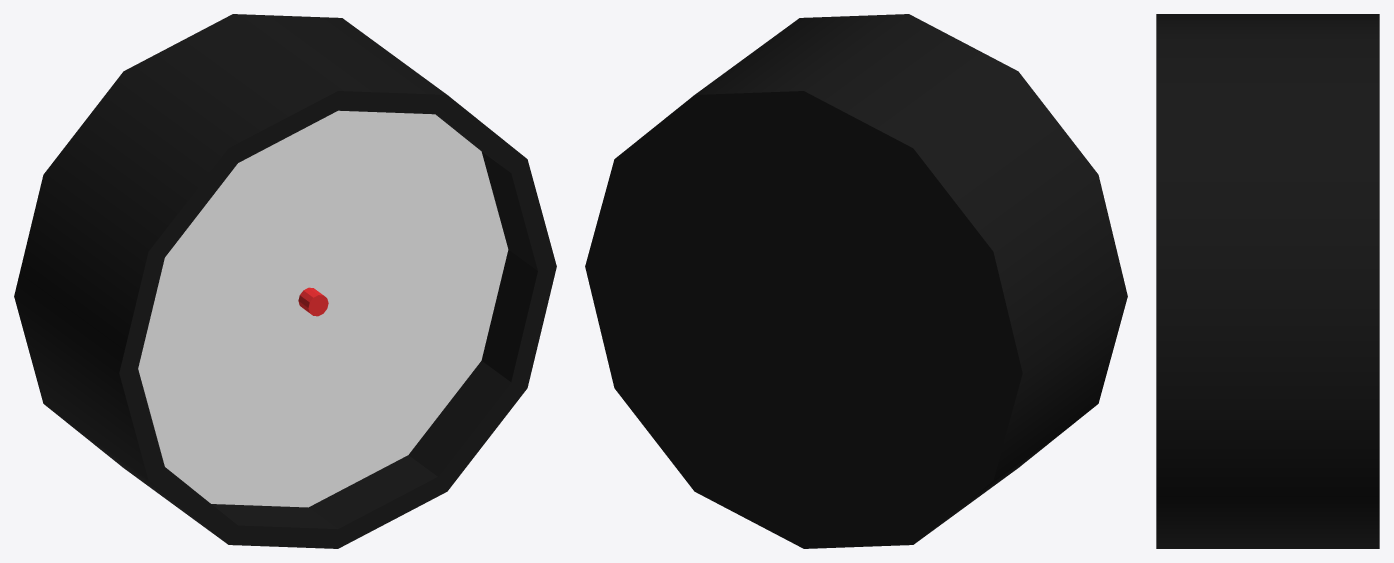
File: Itr_Obj_Alarmclcok_Body_02.FBX
3 renders of one model, left to right at view 1: azimuth 30°, elevation 25°; view 2: azimuth 150°, elevation 25°; view 3: azimuth 270°, elevation 25°, orthographic. The views are drawn at different scales.
Visible parts, largest first — view 1: Itr_Obj_Alarmclcok_Body_02; view 2: Itr_Obj_Alarmclcok_Body_02; view 3: Itr_Obj_Alarmclcok_Body_02.
Part boxes in pixels (x1,y1,x2,y2): Itr_Obj_Alarmclcok_Body_02: [14, 14, 556, 548]; Itr_Obj_Alarmclcok_Body_02: [585, 14, 1127, 548]; Itr_Obj_Alarmclcok_Body_02: [1156, 14, 1379, 548].
Bounding box in the file's own units: 3.87 × 3.87 × 1.61.
